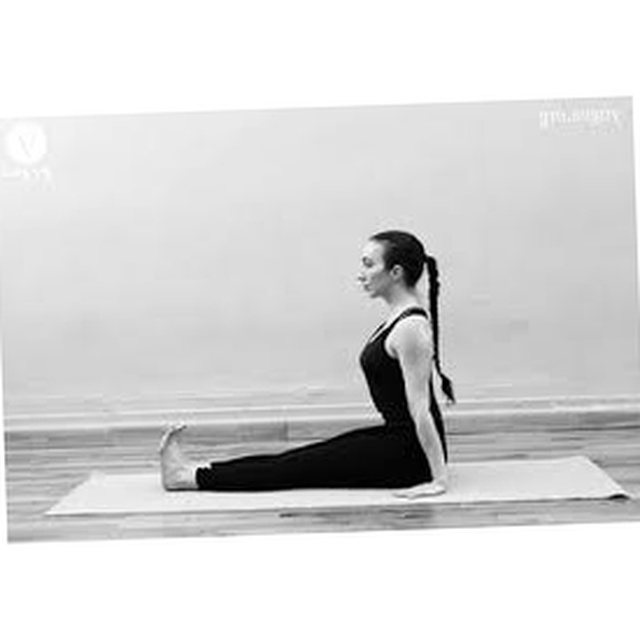Staff_Pose: (156, 228, 457, 500)
